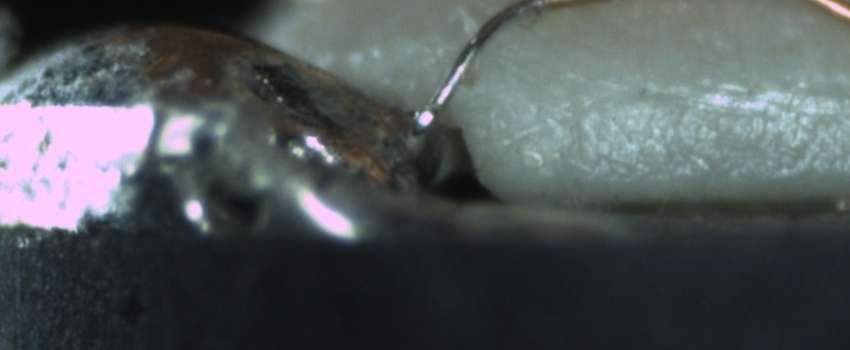DL: (620, 75, 849, 134)
TS: (406, 1, 542, 143)
